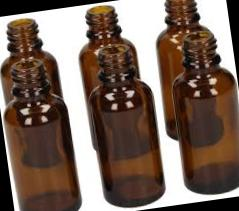glass: (73, 29, 175, 211), (152, 22, 239, 201), (0, 54, 83, 211)
